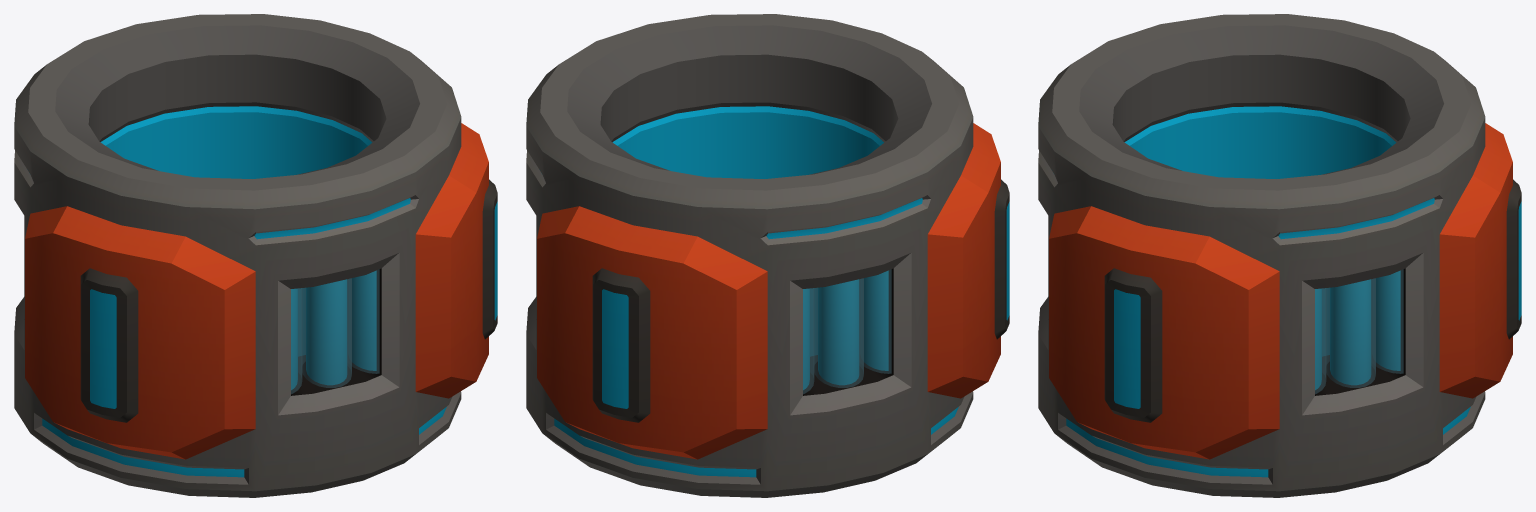
The model's file is Charging_Station_05.fbx.
The picture shows the model from 3 angles, left to right: view 1: azimuth 30°, elevation 25°; view 2: azimuth 150°, elevation 25°; view 3: azimuth 270°, elevation 25°; orthographic projection.
Parts seen in each view (by area): view 1: Charging_Station_05; view 2: Charging_Station_05; view 3: Charging_Station_05.
Boxes of the visible parts, <box> form: Charging_Station_05: <box>14,14,497,497</box>; Charging_Station_05: <box>526,14,1009,497</box>; Charging_Station_05: <box>1038,14,1521,497</box>.
Bounding box in the file's own units: 25.75 × 17.76 × 25.32.
